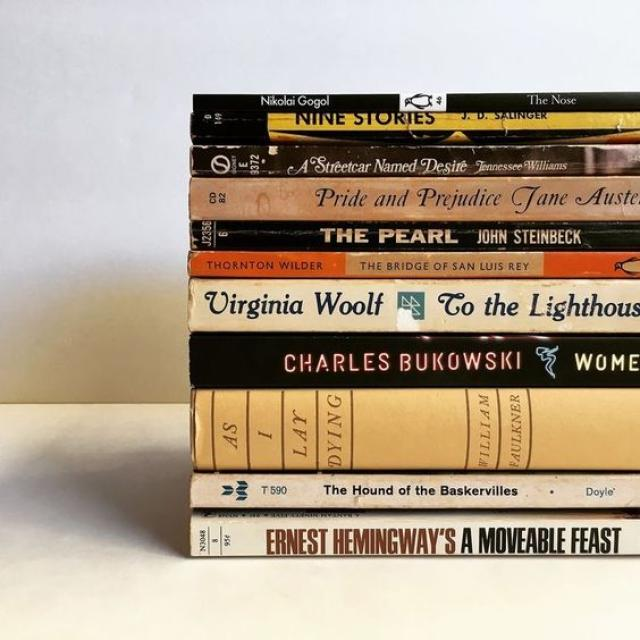book: (190, 388, 640, 468), (190, 334, 640, 388), (188, 279, 640, 332), (190, 176, 640, 218), (190, 517, 640, 554), (192, 473, 639, 507), (190, 218, 640, 250), (190, 146, 640, 176), (190, 114, 640, 143), (189, 251, 640, 278), (193, 95, 639, 111)
